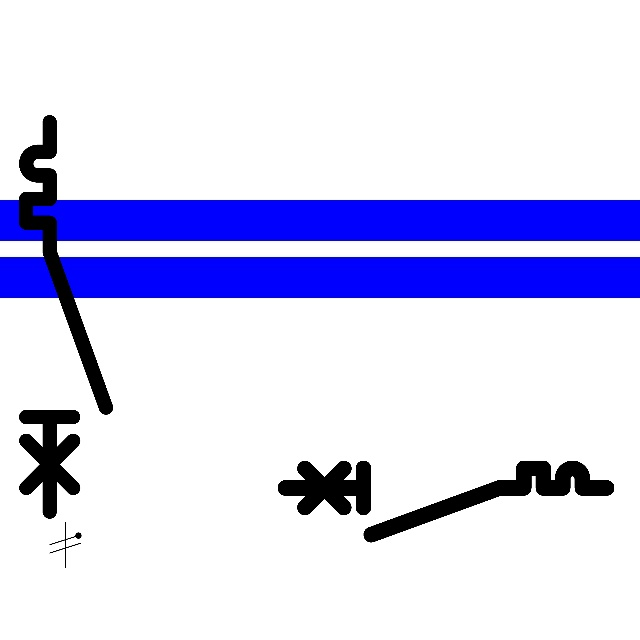interruptor_termomagnetico: (16, 112, 116, 521), (277, 460, 615, 542)
